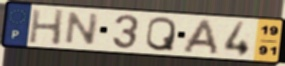3: (110, 13, 140, 51)
4: (222, 19, 252, 59)
A: (180, 17, 221, 56)
H: (27, 8, 67, 47)
N: (63, 10, 103, 46)
Q: (144, 16, 178, 53)
